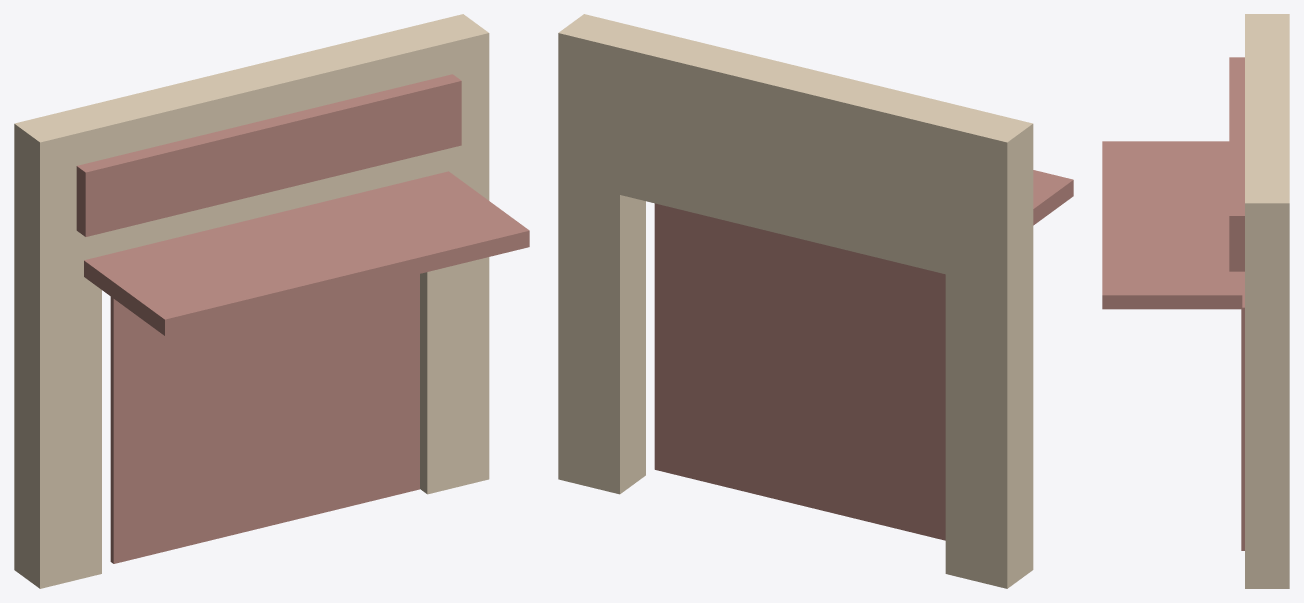
Rendered from bh_souq_shop_souvenir_01_lod0.glb.
3 renders of one model, left to right at view 1: azimuth 30°, elevation 25°; view 2: azimuth 150°, elevation 25°; view 3: azimuth 270°, elevation 25°, orthographic. The views are drawn at different scales.
Visible parts, largest first — view 1: bh_souq_shop_souvenir_01_infill, bh_souq_shop_souvenir_01_left, bh_souq_shop_souvenir_01_awning, bh_souq_shop_souvenir_01_fascia, bh_souq_shop_souvenir_01_top, bh_souq_shop_souvenir_01_right; view 2: bh_souq_shop_souvenir_01_infill, bh_souq_shop_souvenir_01_top, bh_souq_shop_souvenir_01_left, bh_souq_shop_souvenir_01_right, bh_souq_shop_souvenir_01_awning; view 3: bh_souq_shop_souvenir_01_awning, bh_souq_shop_souvenir_01_right, bh_souq_shop_souvenir_01_top, bh_souq_shop_souvenir_01_fascia, bh_souq_shop_souvenir_01_left, bh_souq_shop_souvenir_01_infill.
Part boxes in pixels (<box>): bh_souq_shop_souvenir_01_infill: <box>110,274,419,563</box>; bh_souq_shop_souvenir_01_left: <box>14,108,101,588</box>; bh_souq_shop_souvenir_01_awning: <box>84,171,529,335</box>; bh_souq_shop_souvenir_01_fascia: <box>76,74,461,236</box>; bh_souq_shop_souvenir_01_top: <box>76,29,427,255</box>; bh_souq_shop_souvenir_01_right: <box>402,14,489,494</box>; bh_souq_shop_souvenir_01_infill: <box>654,203,945,540</box>; bh_souq_shop_souvenir_01_top: <box>620,29,970,274</box>; bh_souq_shop_souvenir_01_left: <box>945,108,1033,588</box>; bh_souq_shop_souvenir_01_right: <box>558,14,645,494</box>; bh_souq_shop_souvenir_01_awning: <box>1033,170,1073,225</box>; bh_souq_shop_souvenir_01_awning: <box>1102,141,1242,309</box>; bh_souq_shop_souvenir_01_right: <box>1245,177,1289,588</box>; bh_souq_shop_souvenir_01_top: <box>1245,40,1289,177</box>; bh_souq_shop_souvenir_01_fascia: <box>1229,57,1244,271</box>; bh_souq_shop_souvenir_01_left: <box>1245,14,1289,39</box>; bh_souq_shop_souvenir_01_infill: <box>1241,271,1244,550</box>.
Bounding box in the file's own units: 4 × 3.8 × 1.68.
